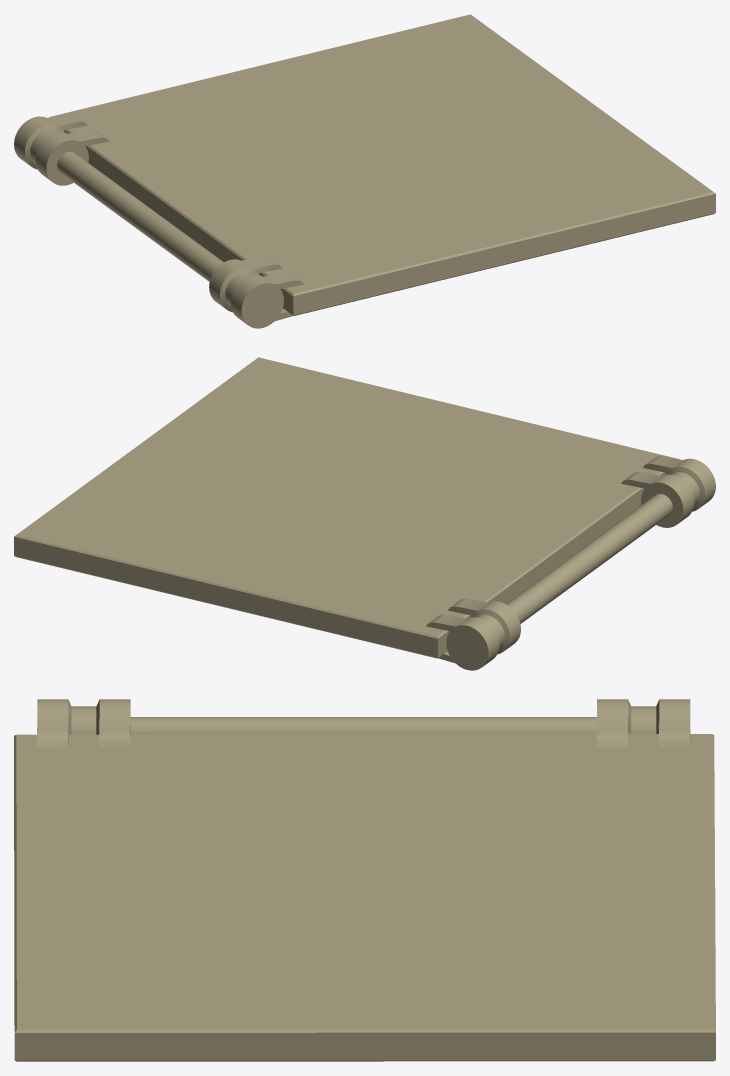
The model's file is Glass container Lid.fbx.
3 views of the same model, one above another, from view 1: azimuth 30°, elevation 25°; view 2: azimuth 150°, elevation 25°; view 3: azimuth 270°, elevation 25° (orthographic). The views are drawn at different scales.
Parts seen in each view (by area): view 1: Cylinder; view 2: Cylinder; view 3: Cylinder.
Part boxes in pixels (box(x1,y1,x2,y2)): Cylinder: box(14, 14, 715, 328); Cylinder: box(14, 357, 715, 670); Cylinder: box(14, 699, 715, 1061).
Size of the model in its own units: 440 by 40 by 399.
